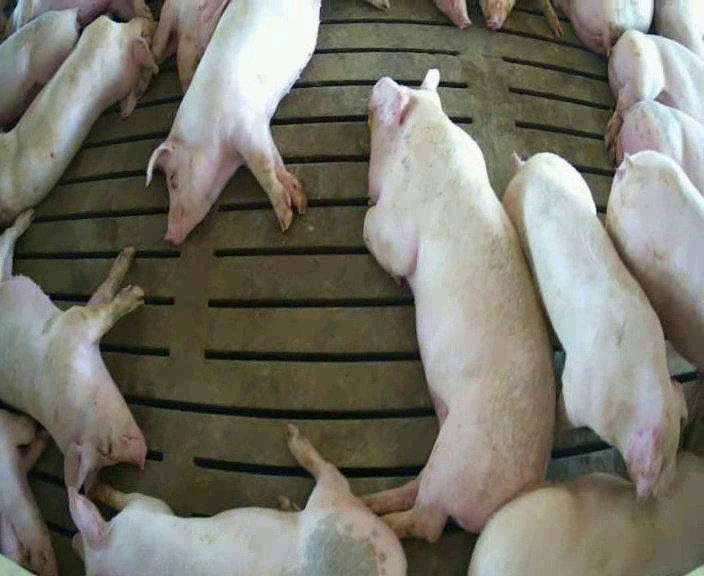pig: (364, 70, 554, 540), (503, 153, 685, 496), (69, 424, 405, 574), (147, 2, 319, 242), (0, 16, 157, 226), (469, 453, 703, 573), (607, 150, 703, 371), (605, 30, 703, 152), (0, 9, 78, 125), (616, 101, 703, 194), (555, 1, 653, 54)
